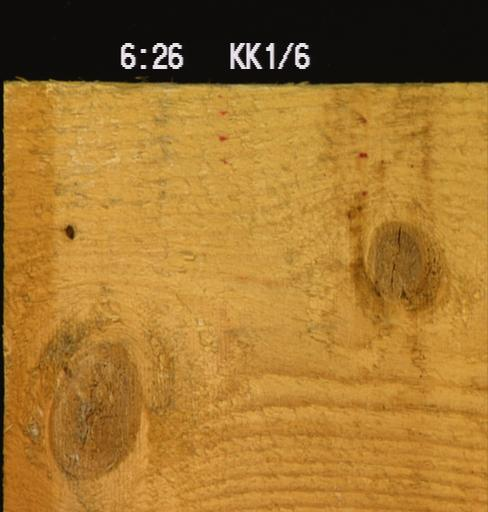sound_knot: (39, 333, 153, 488), (360, 216, 452, 316)
